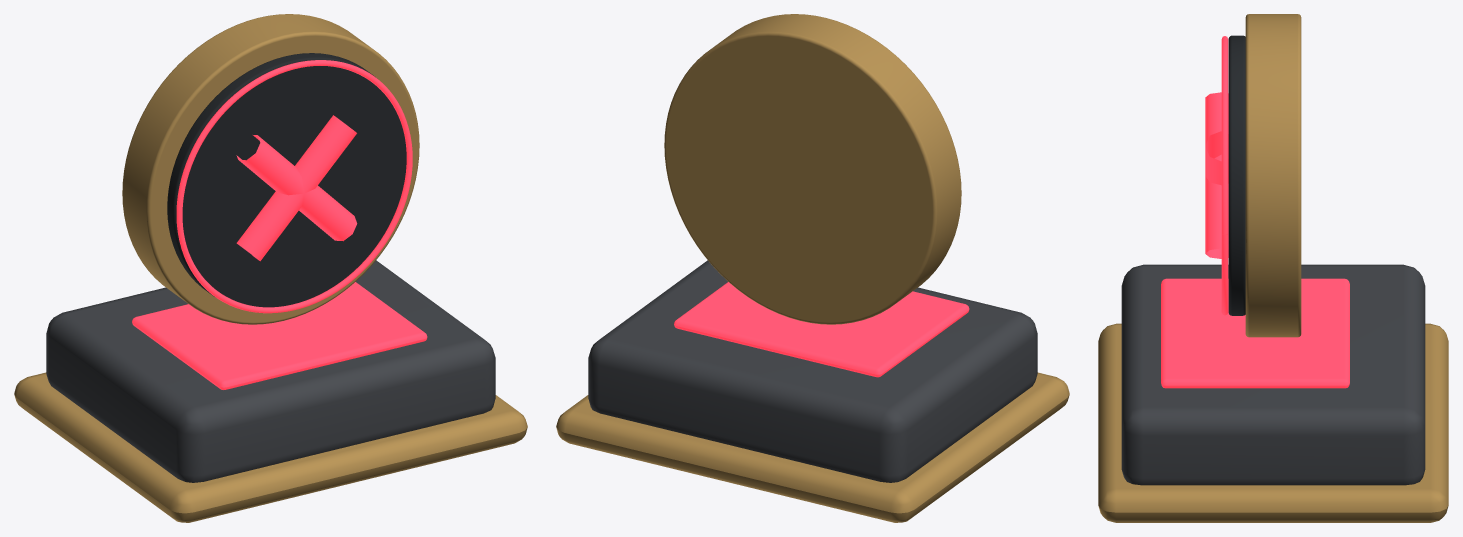
File: estacoes_medalhao_rejeitado.glb
The picture shows the model from 3 angles, left to right: view 1: azimuth 30°, elevation 25°; view 2: azimuth 150°, elevation 25°; view 3: azimuth 270°, elevation 25°; orthographic projection. The views are drawn at different scales.
Visible parts, largest first — view 1: medalhao_rejeitado; view 2: medalhao_rejeitado; view 3: medalhao_rejeitado.
Part boxes in pixels (<box>): medalhao_rejeitado: <box>14,14,527,522</box>; medalhao_rejeitado: <box>556,14,1069,522</box>; medalhao_rejeitado: <box>1098,14,1448,522</box>.
Size of the model in its own units: 0.235 by 0.252 by 0.195.
